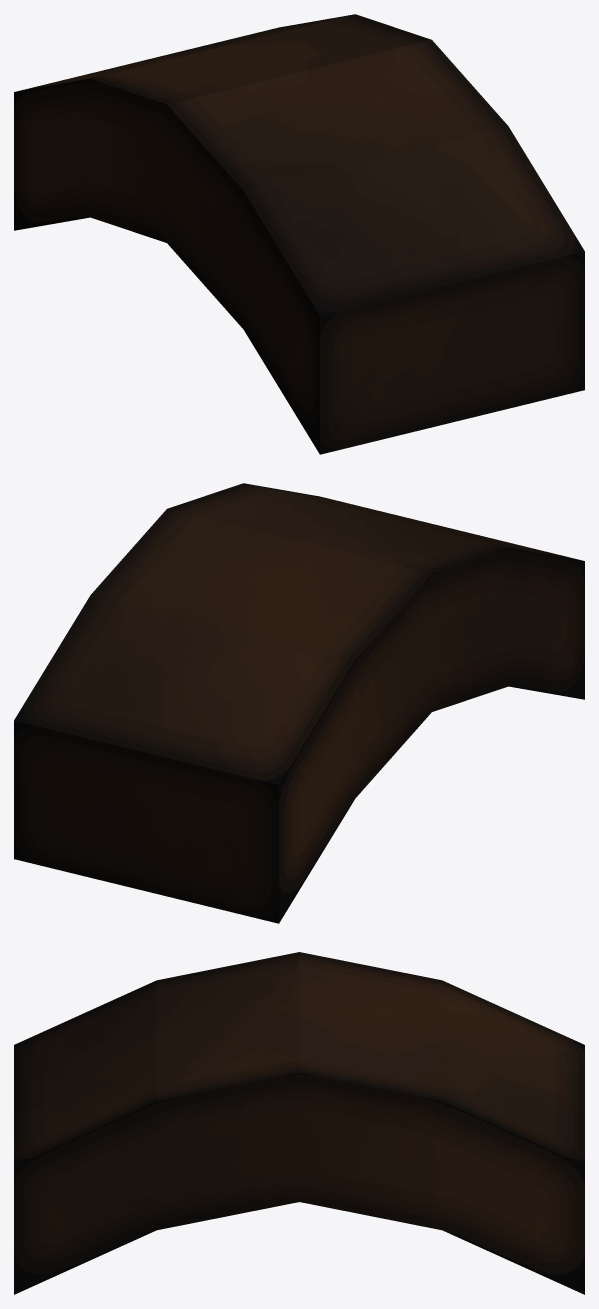
File: bridge1.obj
3 renders of one model, top to bottom at view 1: azimuth 30°, elevation 25°; view 2: azimuth 150°, elevation 25°; view 3: azimuth 270°, elevation 25°, orthographic. The views are drawn at different scales.
Visible parts, largest first — view 1: Cube.001; view 2: Cube.001; view 3: Cube.001.
Part boxes in pixels (x1,y1,x2,y2): Cube.001: (14, 14, 584, 454); Cube.001: (14, 483, 584, 923); Cube.001: (14, 952, 584, 1294).
Bounding box in the file's own units: 32 × 27.5 × 64.
1 material, 1 textured.
